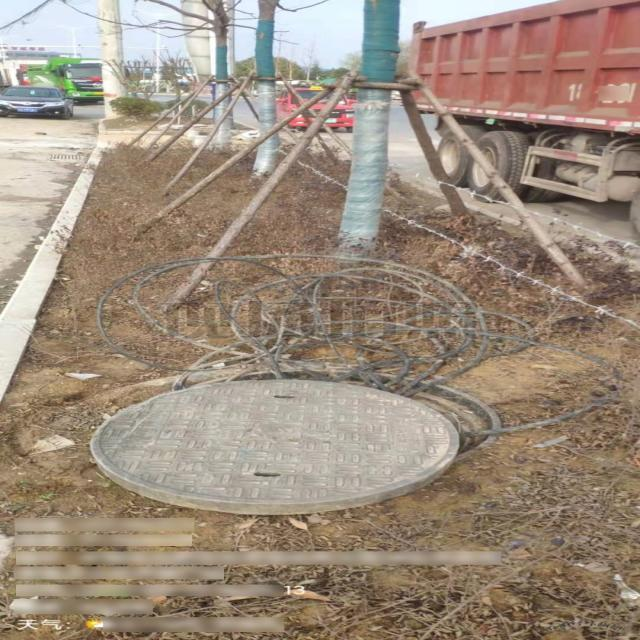Faulty: (88, 364, 496, 512)
